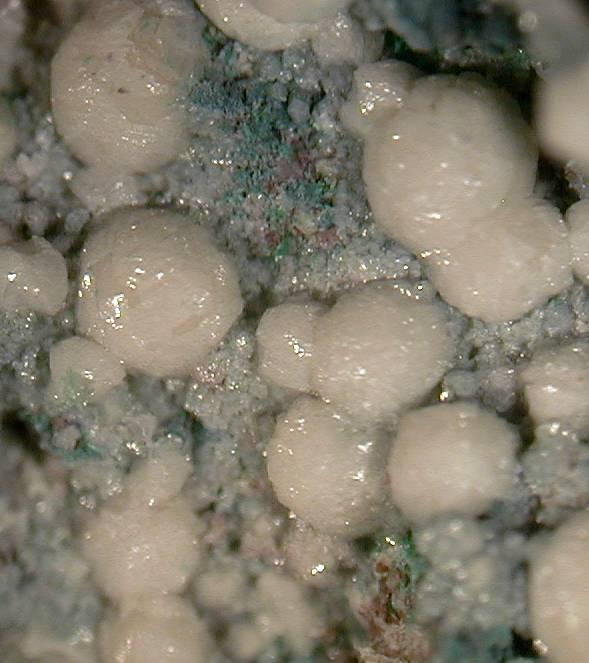calcite: (260, 282, 517, 540), (342, 59, 573, 323), (48, 208, 243, 402), (51, 0, 206, 175), (84, 457, 212, 663), (198, 0, 371, 64), (2, 242, 68, 314)
